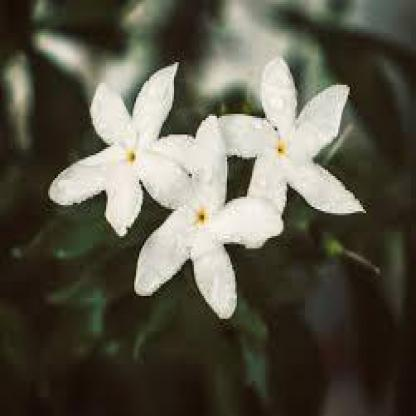Melati: (54, 59, 325, 309)
